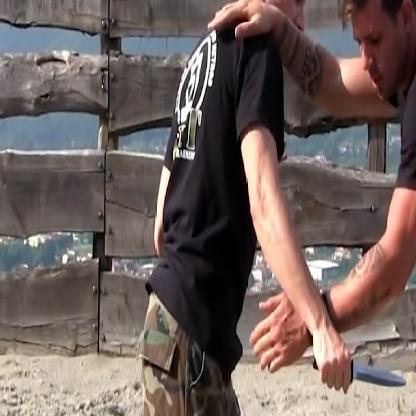knife: (309, 342, 411, 400)
